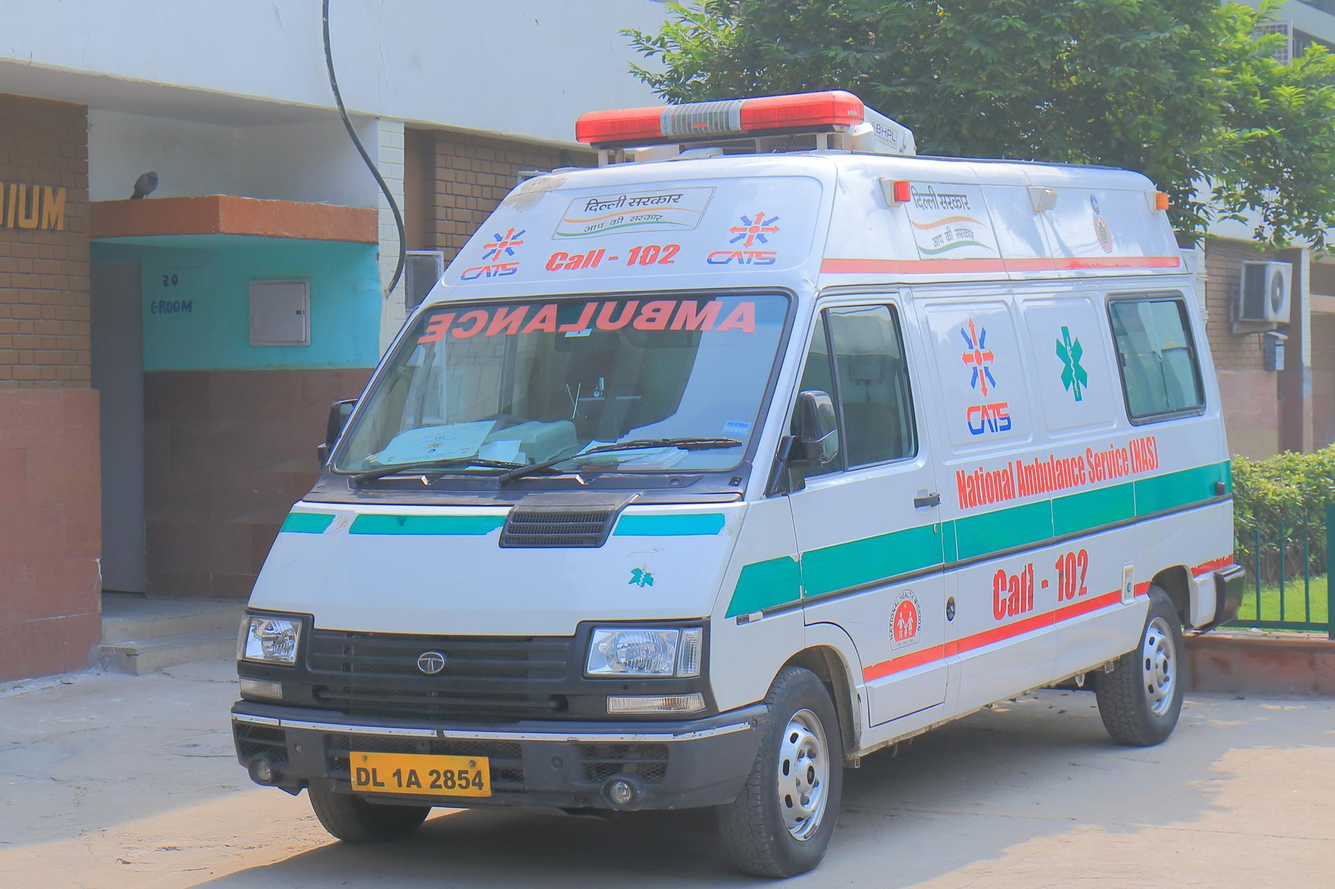Ambulance: (419, 289, 767, 355), (1042, 309, 1103, 409)
